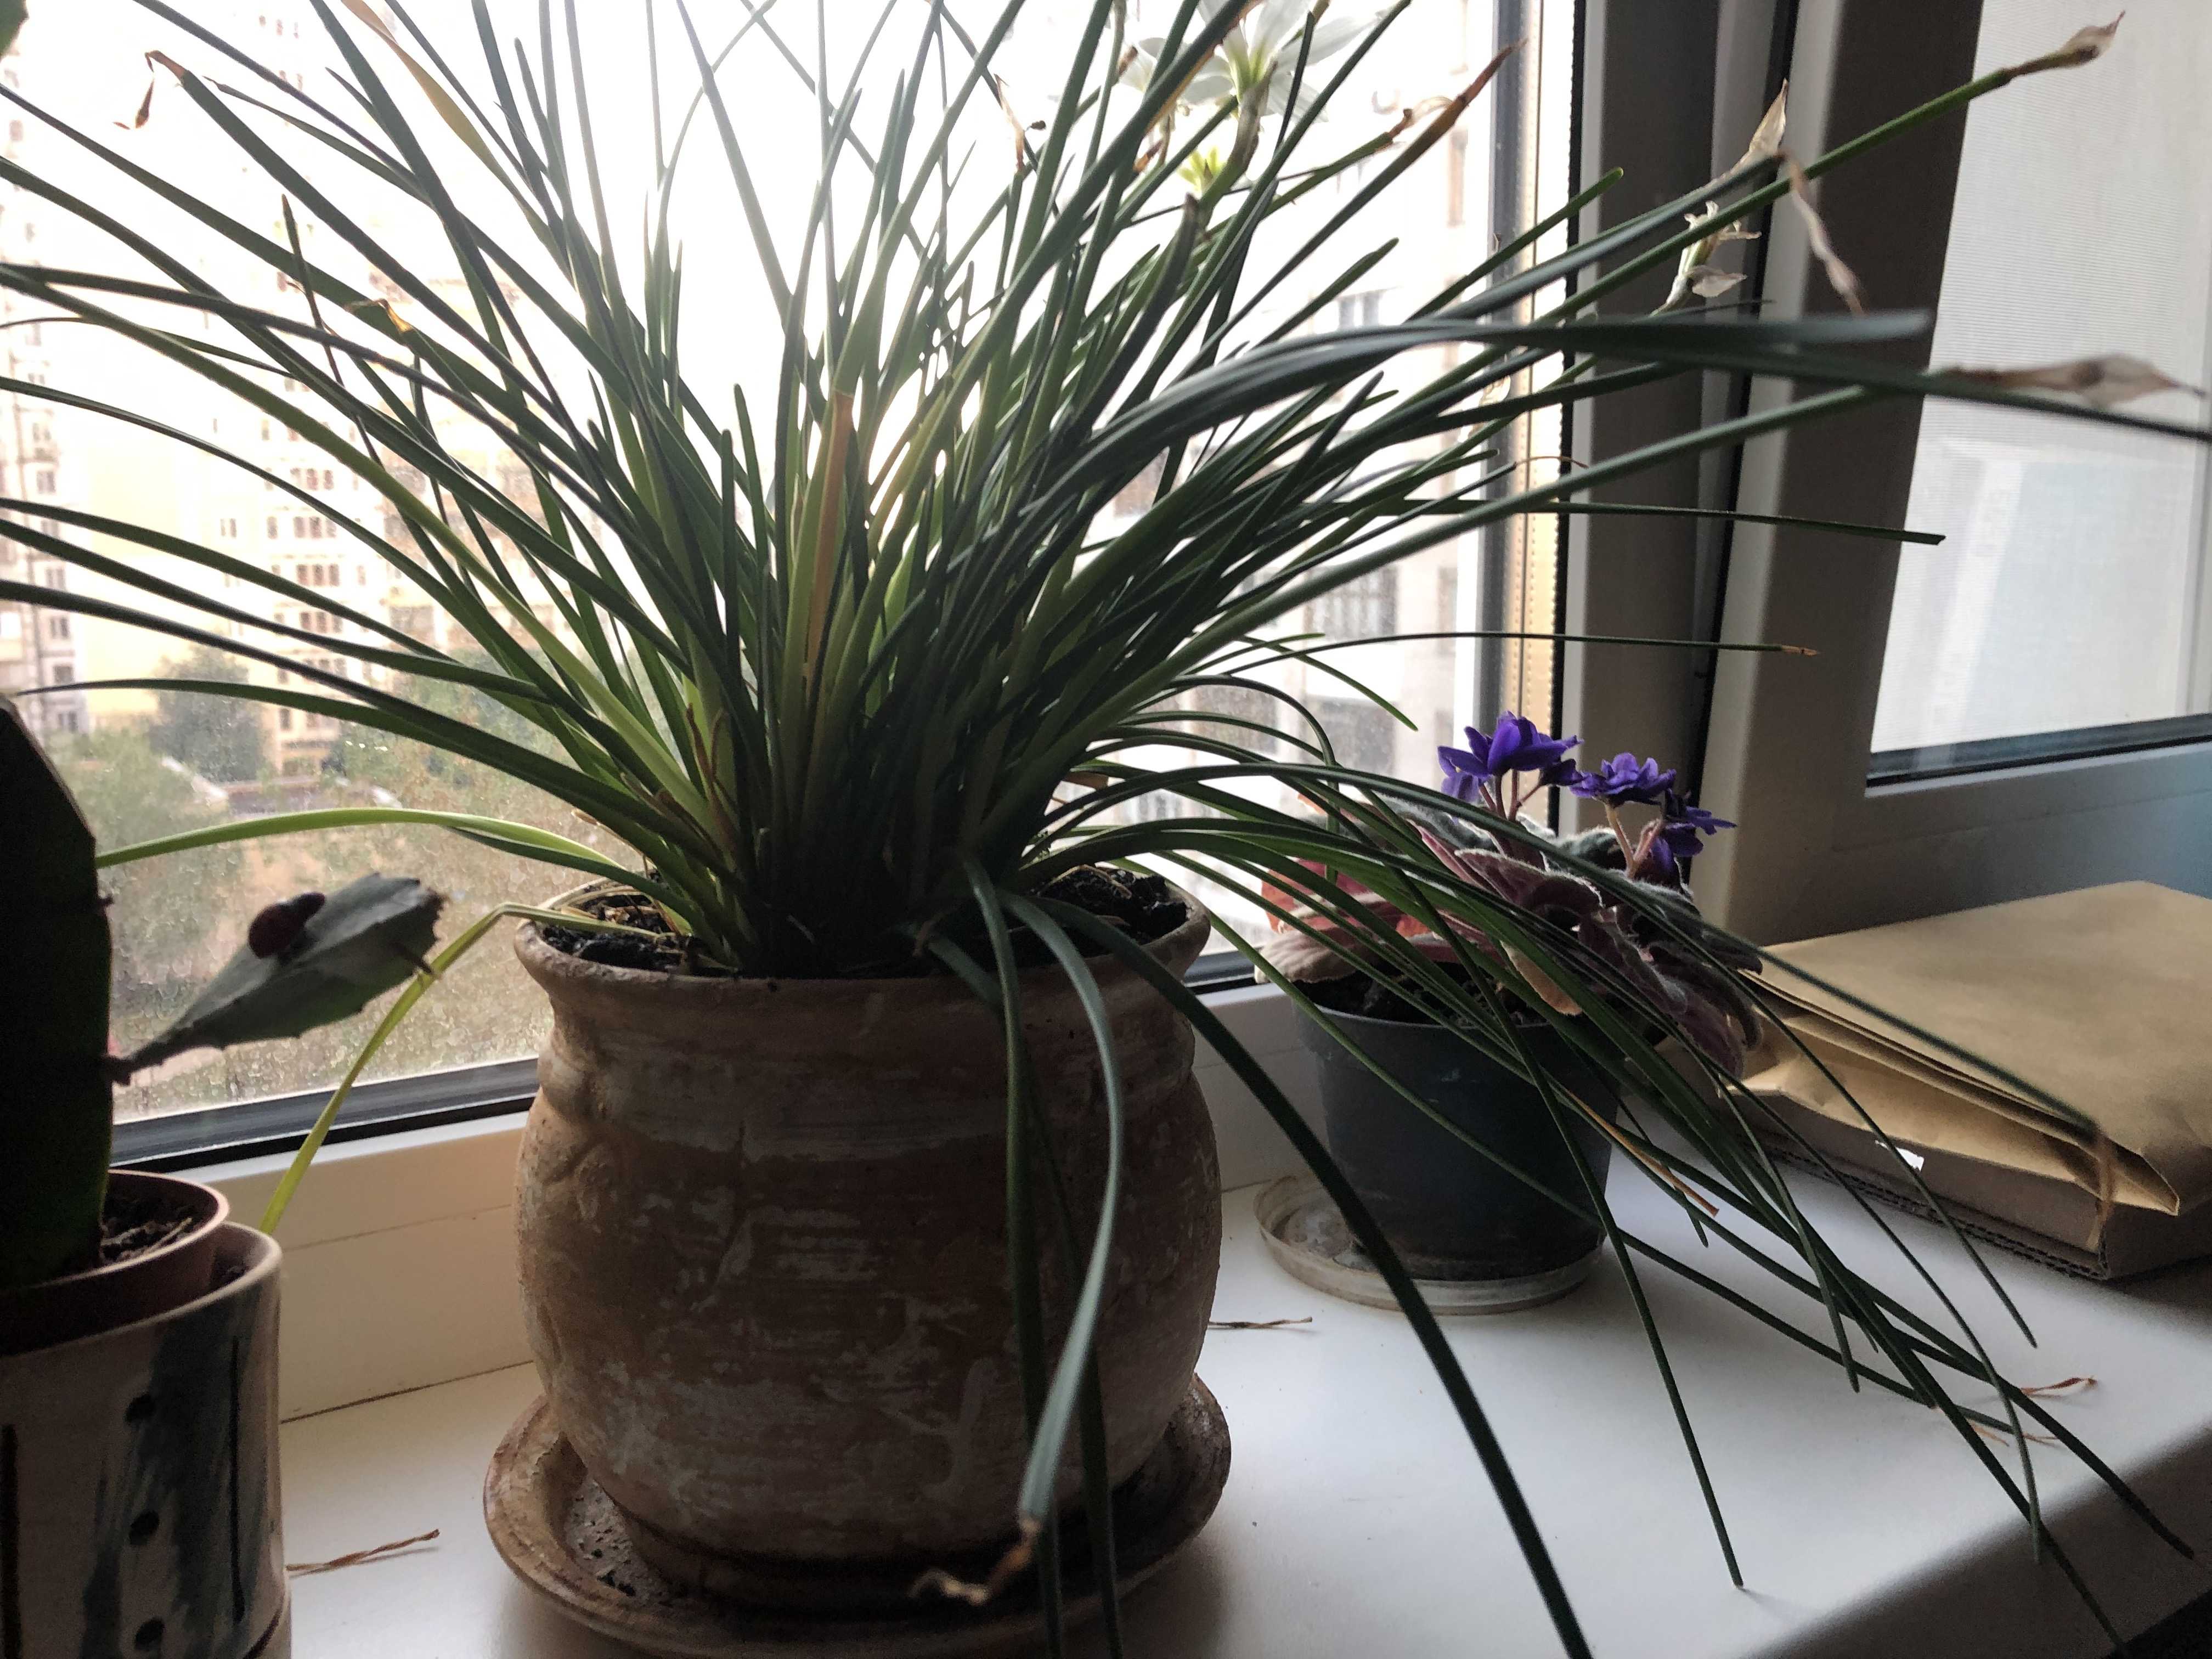ignore: (1244, 701, 1728, 1004)
